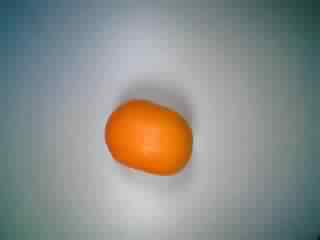orange: (102, 85, 193, 181)
